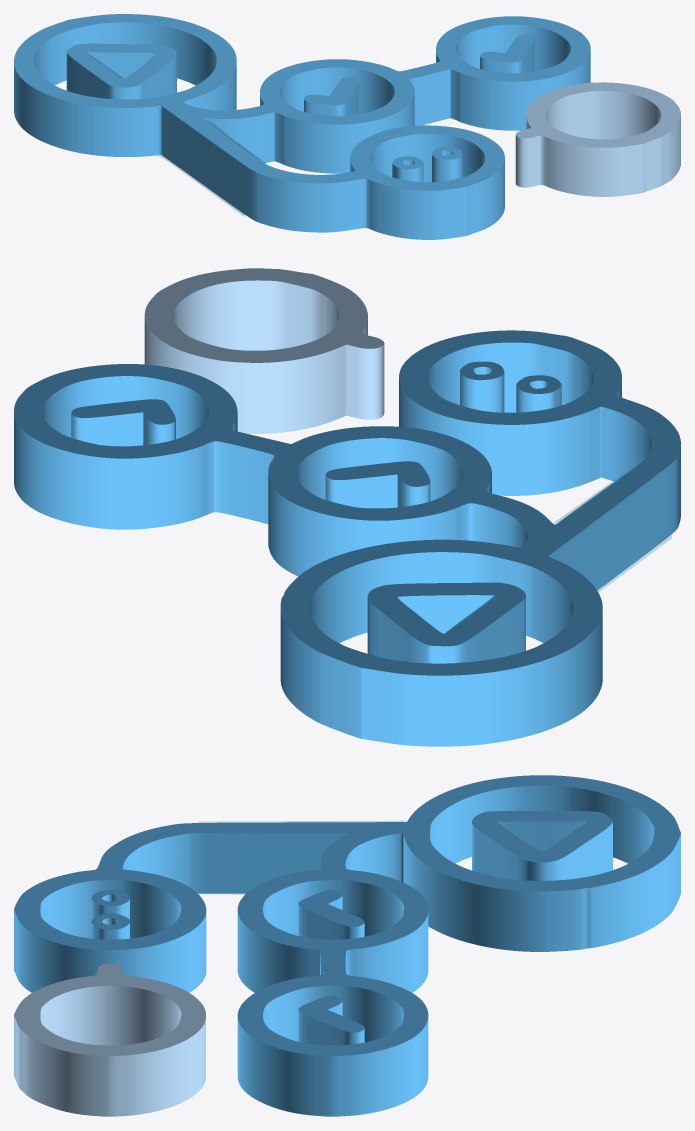
File: GitHub+Actions-transformed.glb
The picture shows the model from 3 angles, top to bottom: view 1: azimuth 30°, elevation 25°; view 2: azimuth 150°, elevation 25°; view 3: azimuth 270°, elevation 25°; orthographic projection. The views are drawn at different scales.
Visible parts, largest first — view 1: Node1, Node7, Node2, Node8, Node3, Node4, Node6, Node5; view 2: Node1, Node7, Node2, Node8, Node3, Node4, Node6, Node5; view 3: Node1, Node7, Node2, Node9, Node11, Node3, Node4, Node10, Node6, Node5.
Part boxes in pixels (box(x1,y1,x2,y2)): Node1: box(14, 14, 590, 239); Node7: box(515, 82, 680, 196); Node2: box(66, 43, 176, 99); Node8: box(157, 107, 244, 216); Node3: box(304, 77, 358, 116); Node4: box(480, 34, 534, 73); Node6: box(432, 146, 462, 182); Node5: box(392, 156, 423, 182); Node1: box(14, 330, 680, 746); Node7: box(144, 268, 384, 433); Node2: box(367, 582, 525, 663); Node8: box(553, 468, 671, 592); Node3: box(325, 461, 430, 508); Node4: box(71, 399, 175, 446); Node6: box(460, 361, 504, 412); Node5: box(516, 375, 561, 412); Node1: box(14, 775, 680, 1116); Node7: box(14, 963, 205, 1116); Node2: box(472, 811, 612, 880); Node9: box(199, 834, 344, 894); Node11: box(203, 833, 346, 893); Node3: box(298, 890, 364, 939); Node4: box(298, 996, 364, 1045); Node10: box(498, 821, 585, 851); Node6: box(91, 913, 129, 939); Node5: box(91, 890, 129, 919).
Bounding box in the file's own units: 99.59 × 10 × 99.89.
